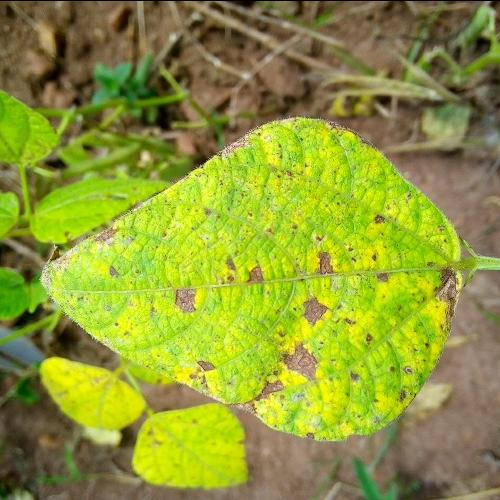hawar: (322, 294, 446, 420), (35, 208, 137, 318), (169, 350, 289, 420), (269, 284, 330, 406), (414, 259, 470, 330), (149, 269, 206, 333), (298, 243, 361, 290), (207, 240, 261, 293)
